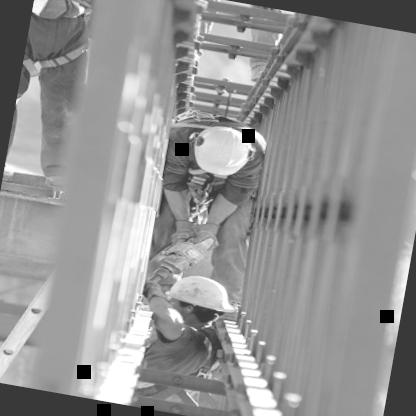helmet: (170, 110, 272, 208), (152, 261, 250, 338)
